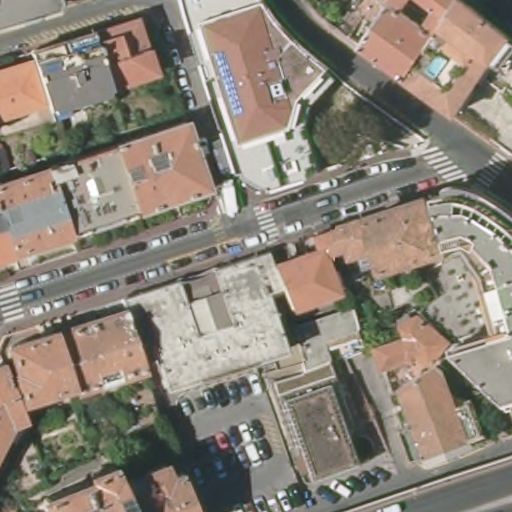pool: (425, 54, 447, 83)
